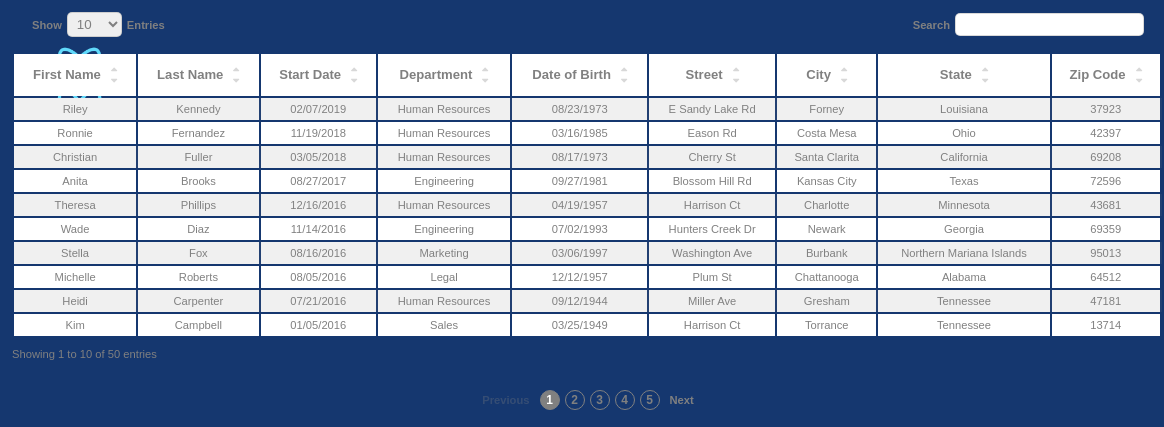
Test case: Component: Advance Table Data › it can display no result
In the field with test id "search": (1050, 24) [955,13,1144,36], type "fgdsdgsfdgdfgf"
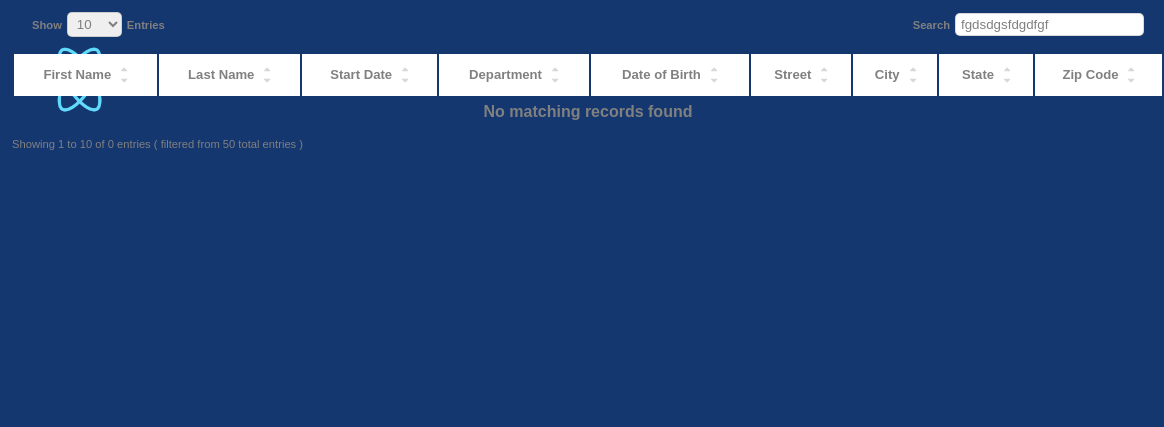
Check: the text "No matching records found" is shown, box [14,98,1162,126]
